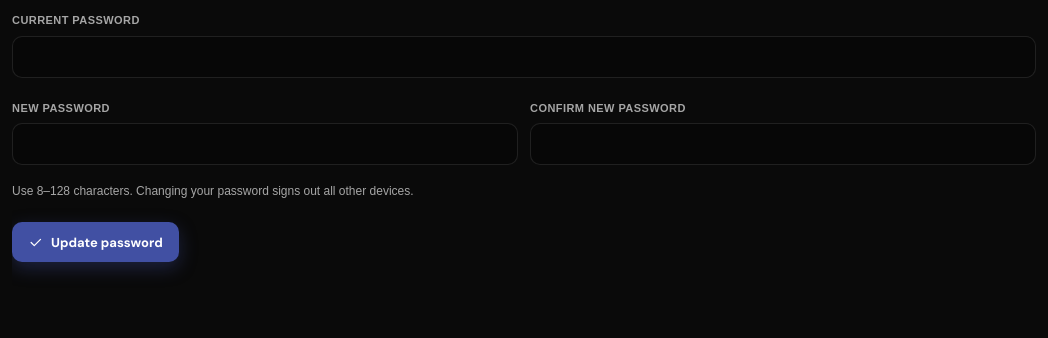
it: account forms › never submits mismatched passwords
Type "old-password" into the password field labelled "Current password" at (524, 56), box left=12, top=36, right=1036, bottom=78
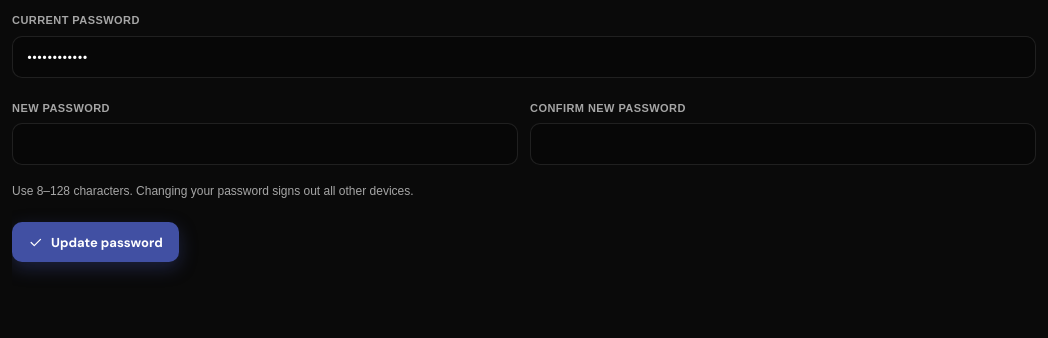
Type "new-password" into the password field labelled "New password" at (265, 144), box left=12, top=123, right=518, bottom=165
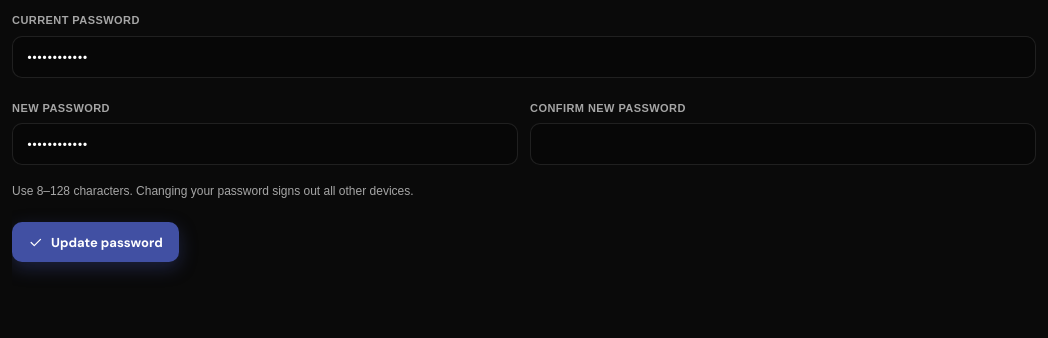
Type "does-not-match" into the password field labelled "Confirm new password" at (783, 144), box left=530, top=123, right=1036, bottom=165
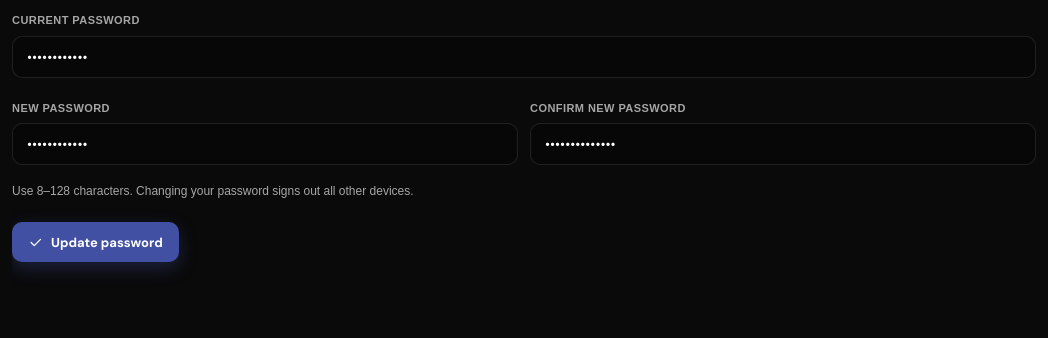
Click the button "Update password" at (95, 242), box left=12, top=222, right=179, bottom=262
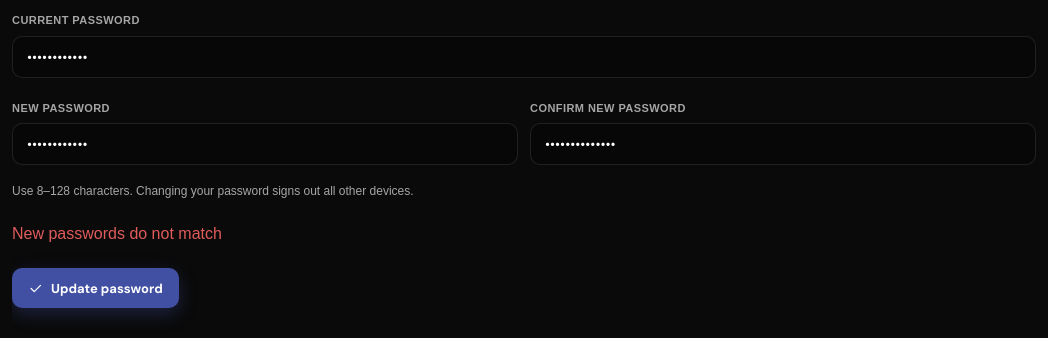
Check: the message shows "do not match", box left=12, top=225, right=222, bottom=242
